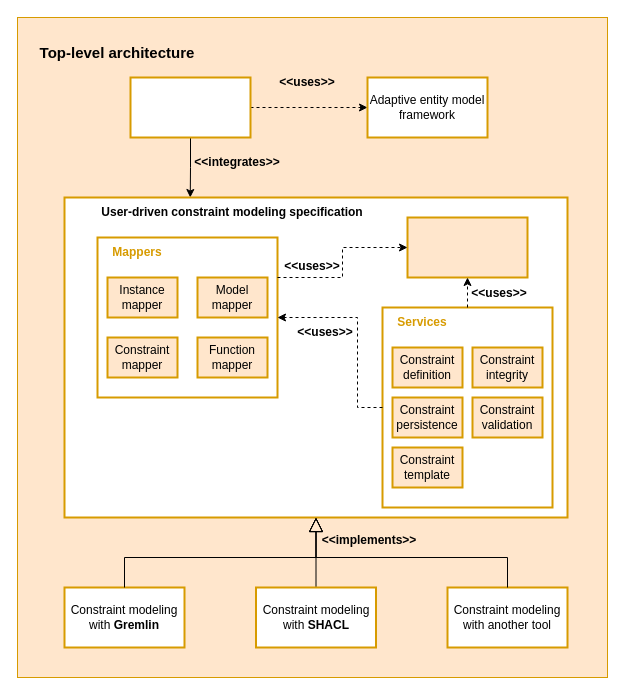
Image size: 625x695. Some labels were removed from this diagram. Each missing label, with the centre of its shape:
"Client application" belongs at (x=190, y=107).
"Domain" belongs at (x=467, y=247).
